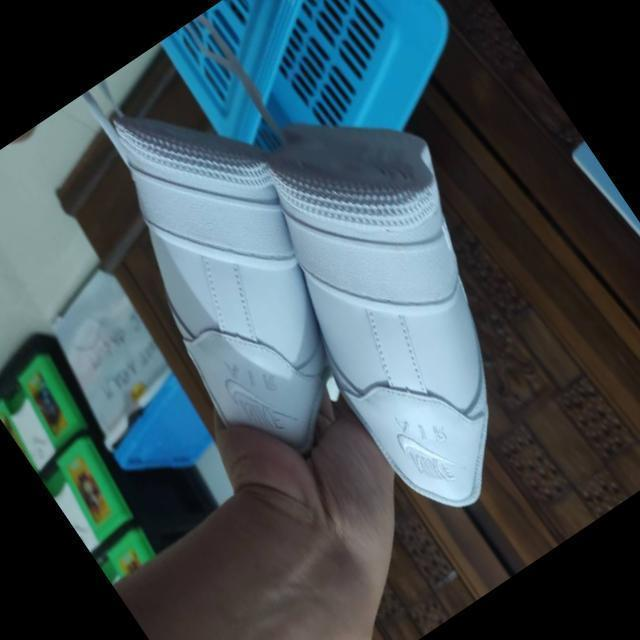nike original air force: (194, 60, 619, 537), (45, 62, 422, 495)
